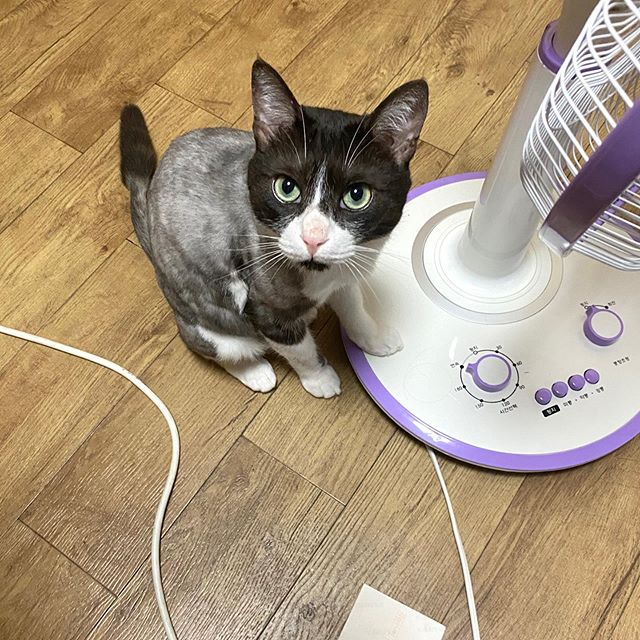cat: (246, 57, 454, 265)
